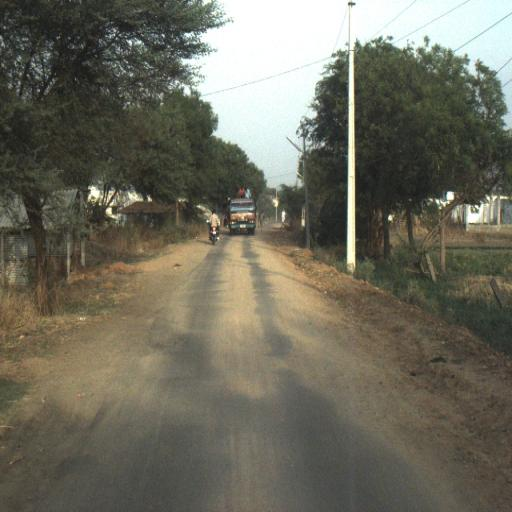street_light_0: (286, 135, 307, 164), (295, 169, 305, 180)
